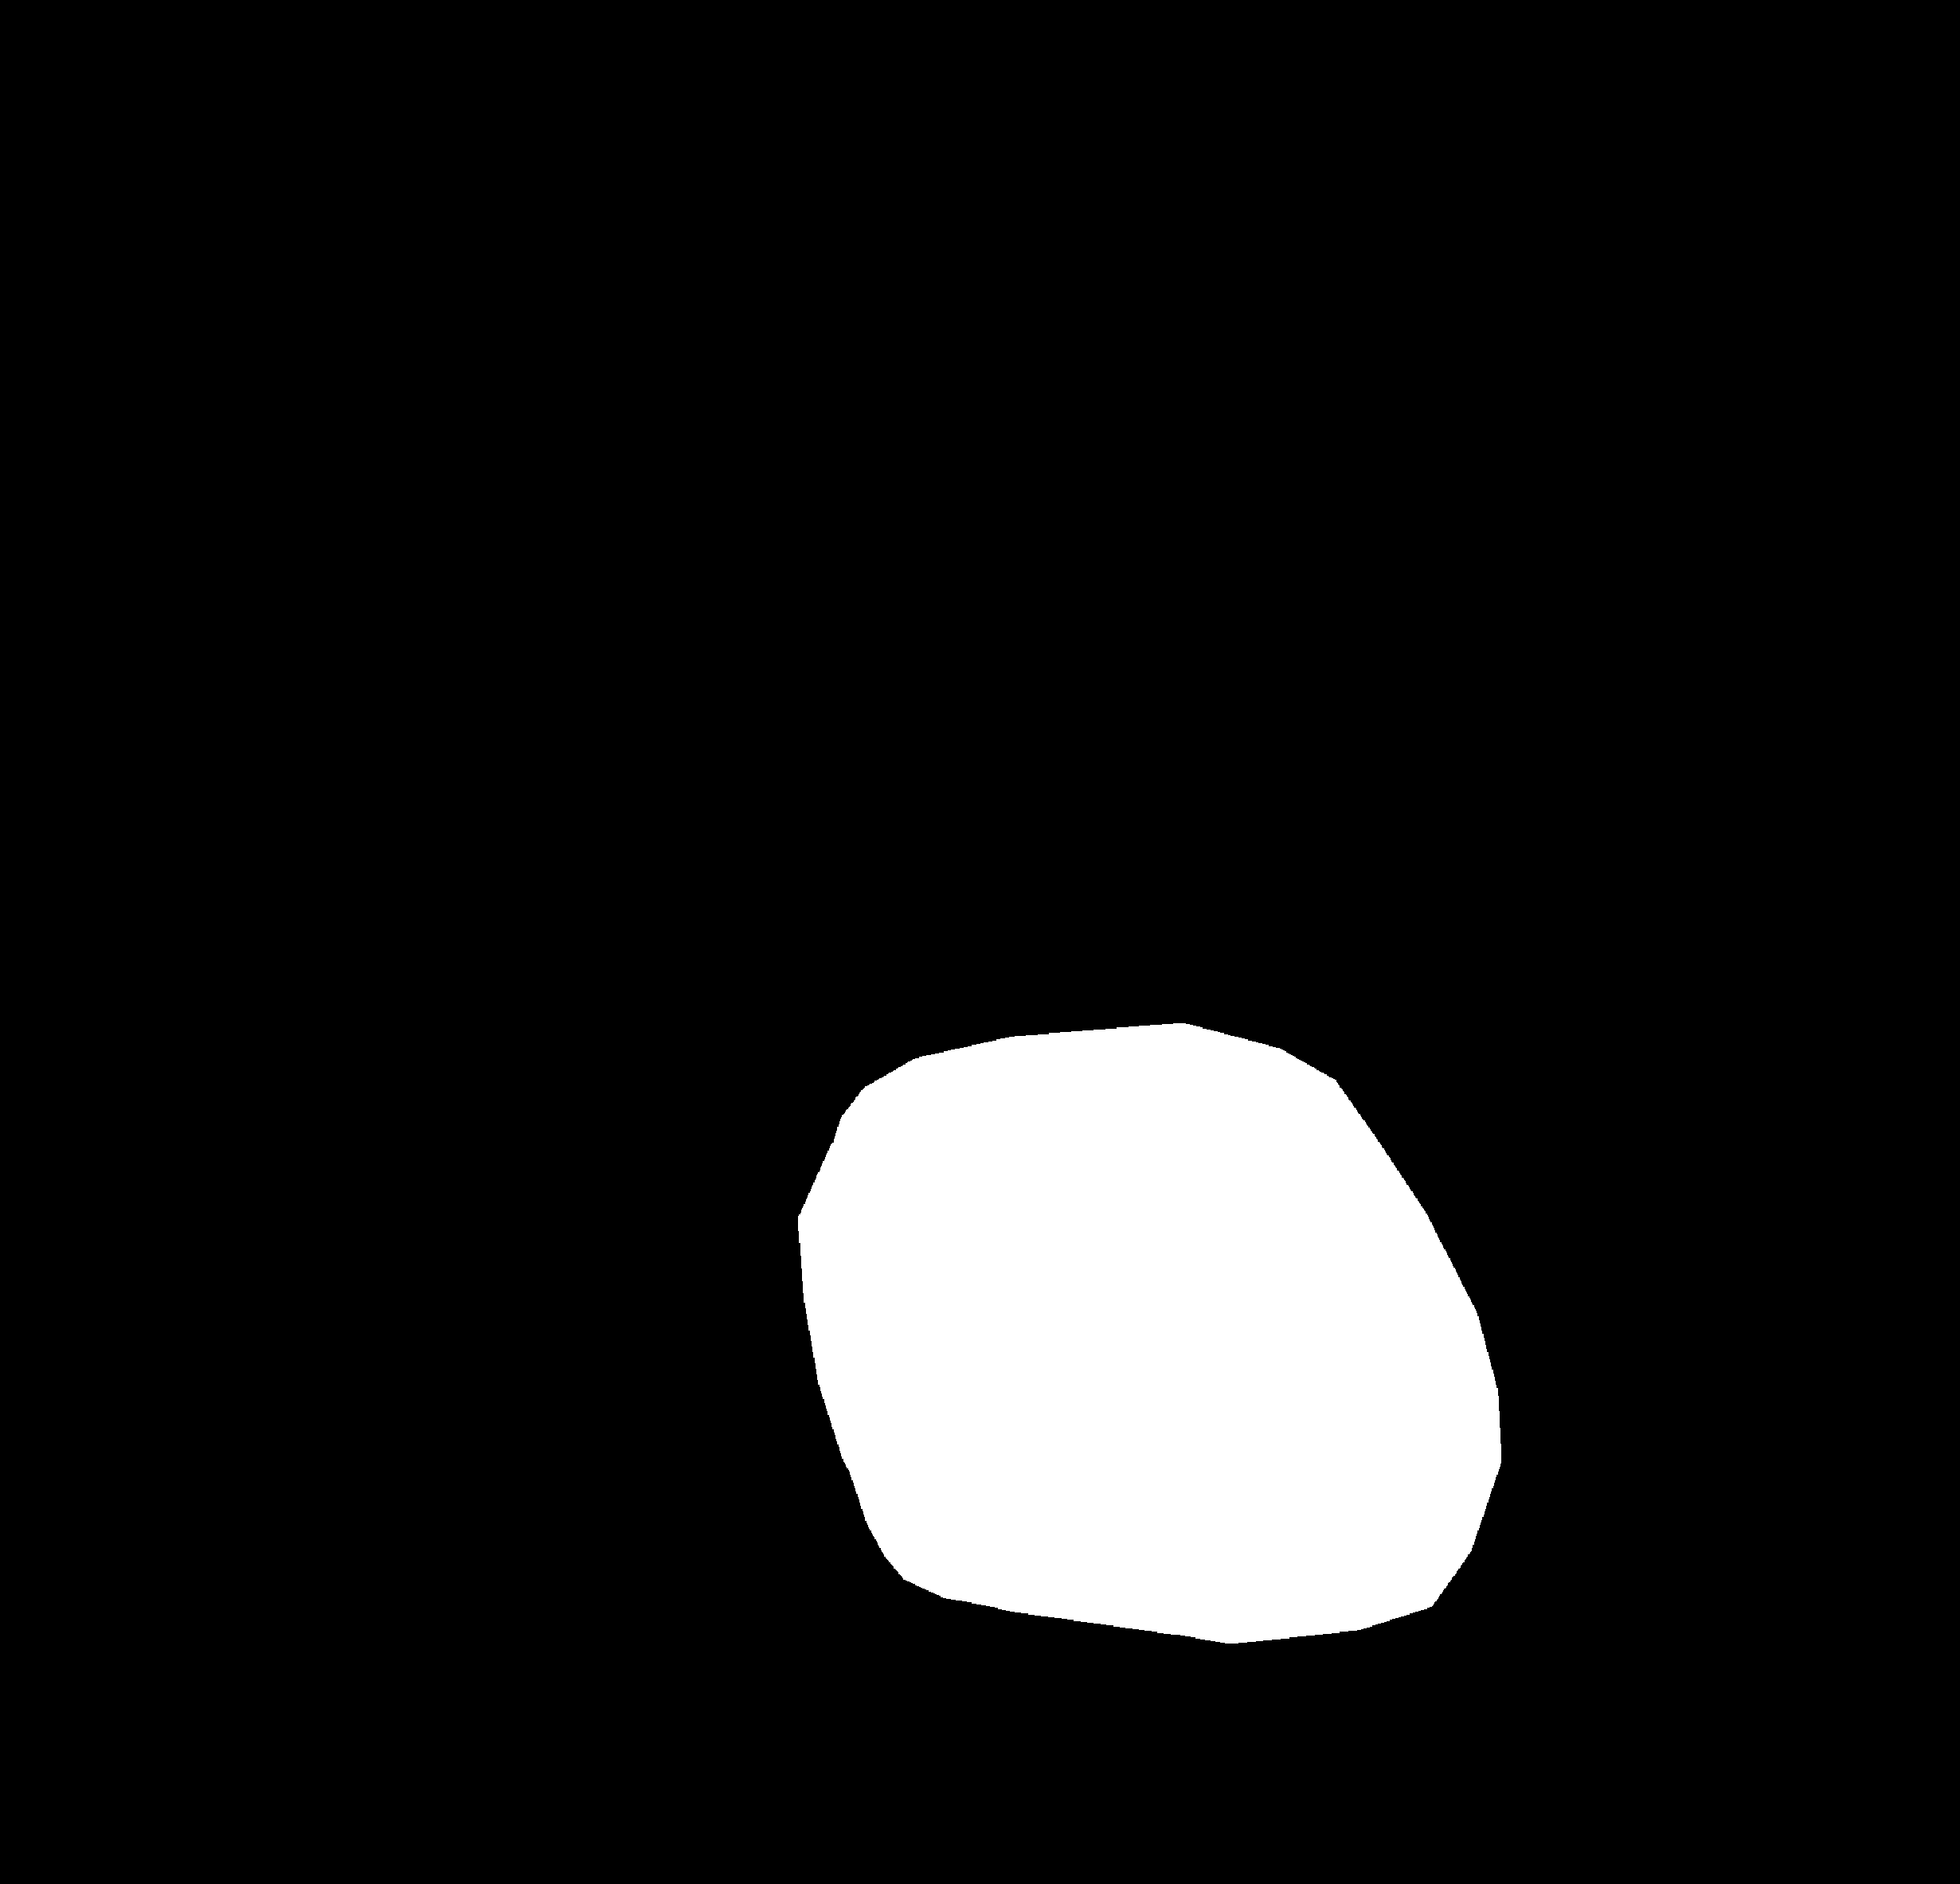heart: (798, 1048, 1494, 1623)
left_lung: (205, 247, 907, 1774)
right_lung: (1073, 243, 1729, 1819)
